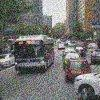buses: (10, 36, 56, 75)
